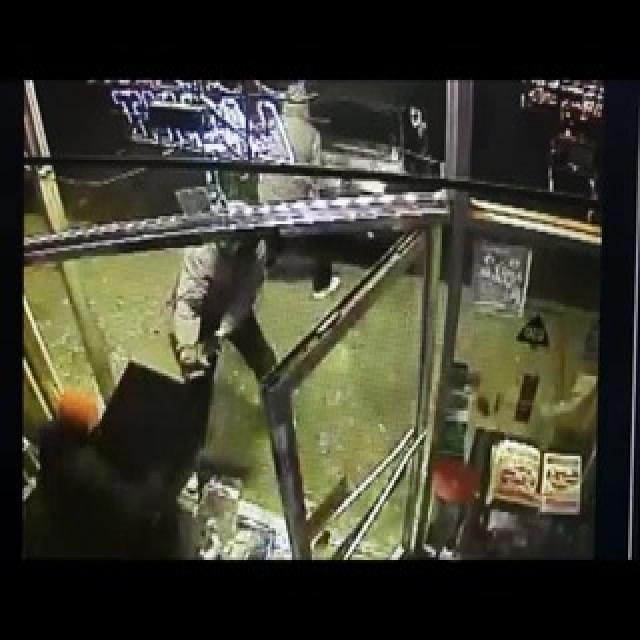thief: (168, 221, 267, 358)
